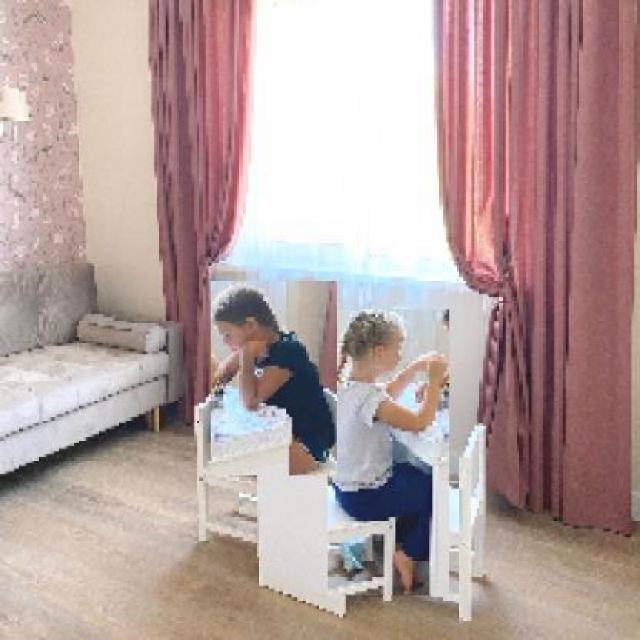child: (326, 309, 448, 597), (209, 280, 337, 477)
